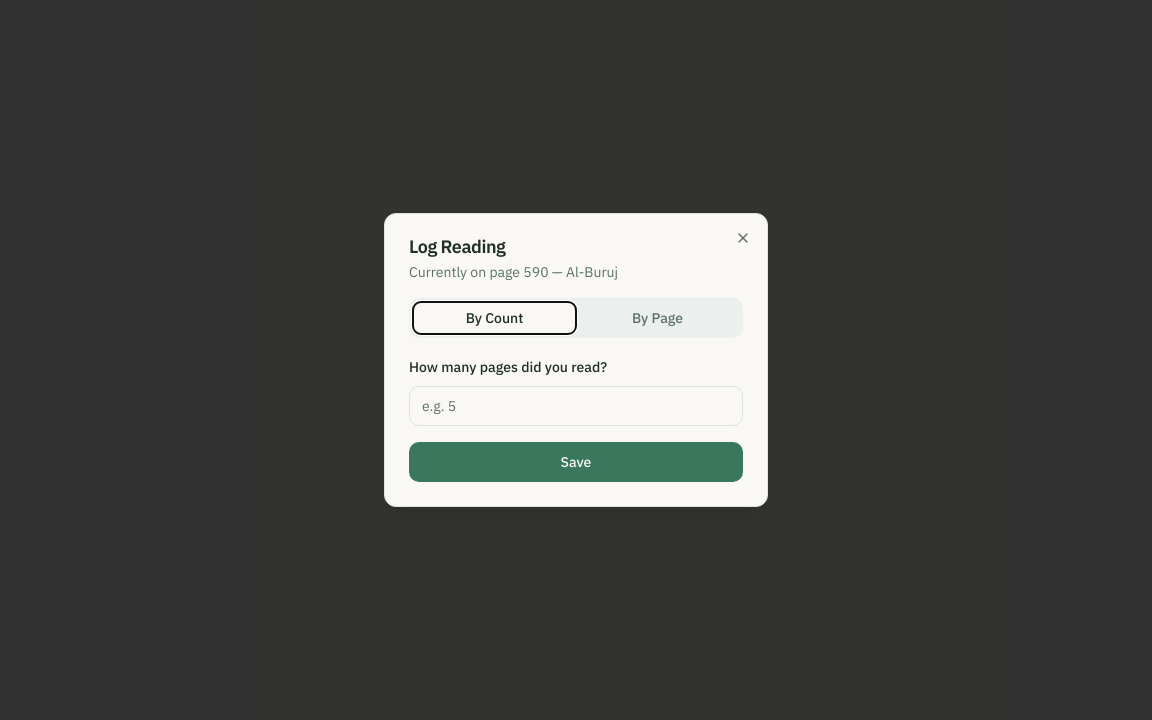
Test: LogReadingDialog › keeps the last page read within the plan
Press the mouse on the tab "By Page" at coordinates (658, 318), box [576, 302, 739, 334]
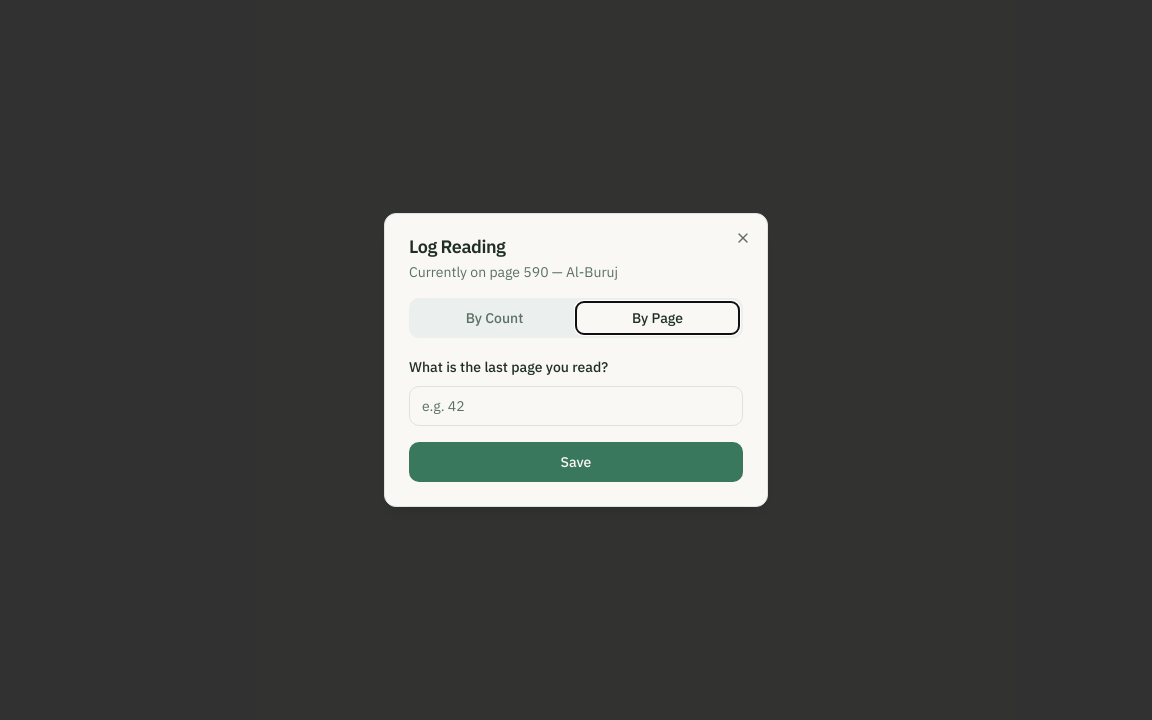
Type "605" into the number field labelled "What is the last page you read?" at coordinates (576, 406), box [409, 386, 743, 426]
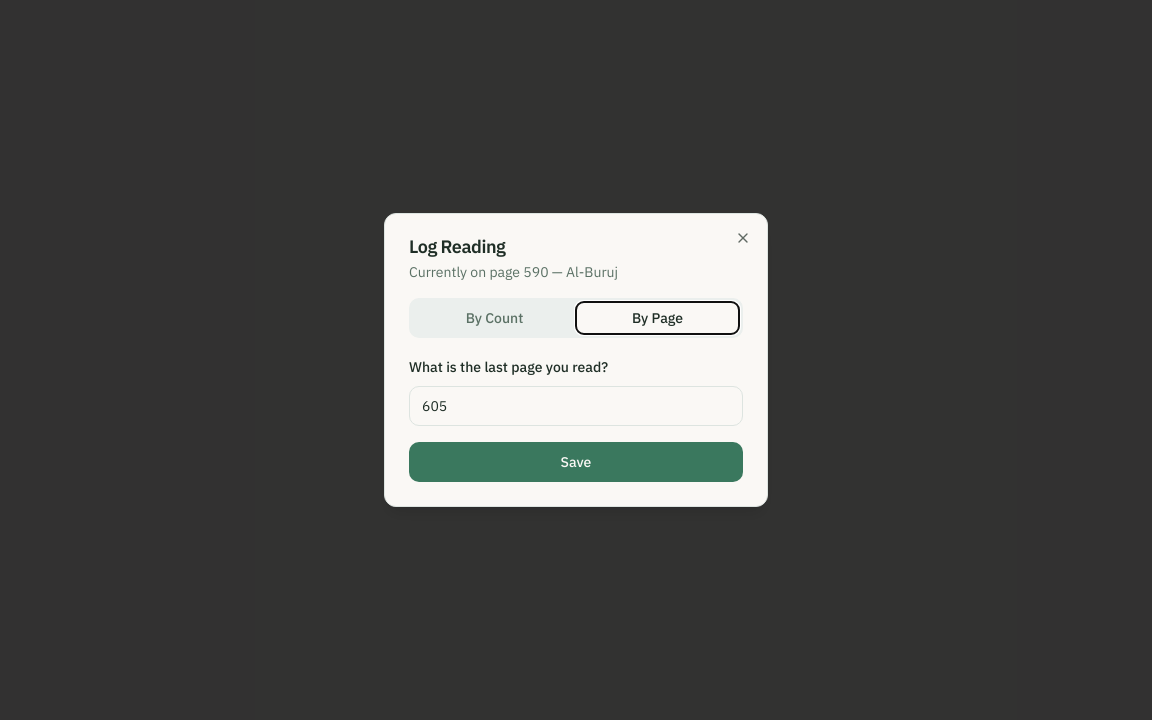
Click the button "Save" at coordinates (576, 462), box [409, 442, 743, 482]
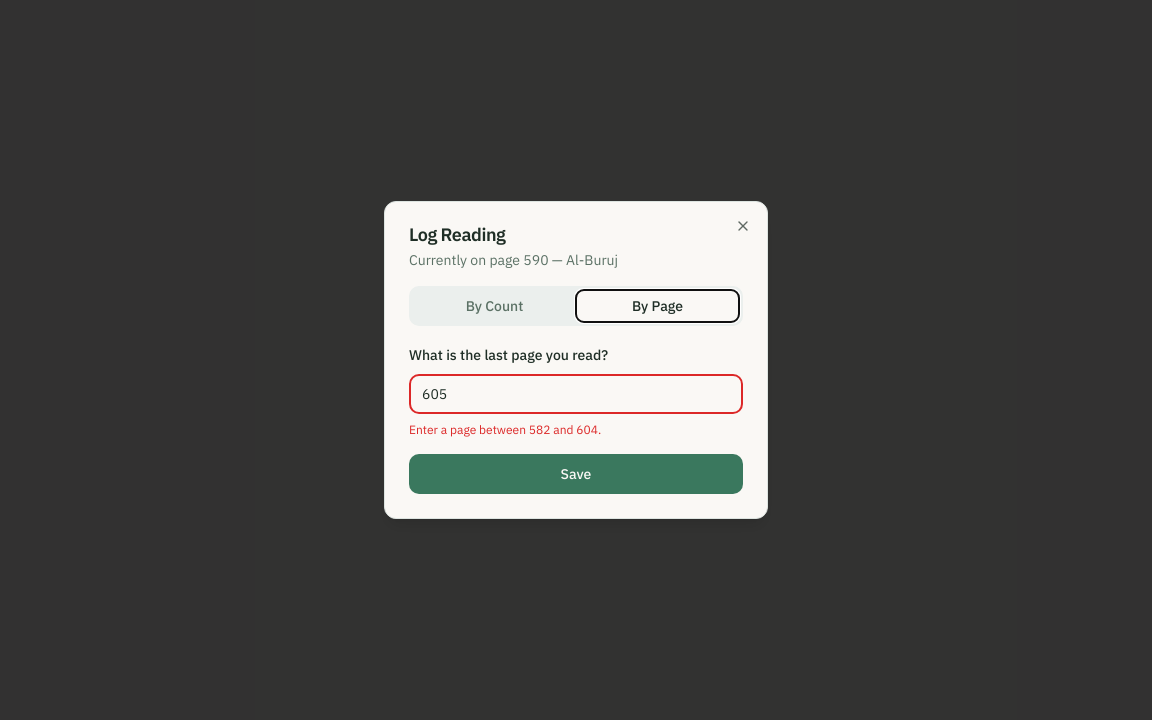
Check: the message reads "Enter a page between 582 and 604.", box [409, 422, 601, 437]
